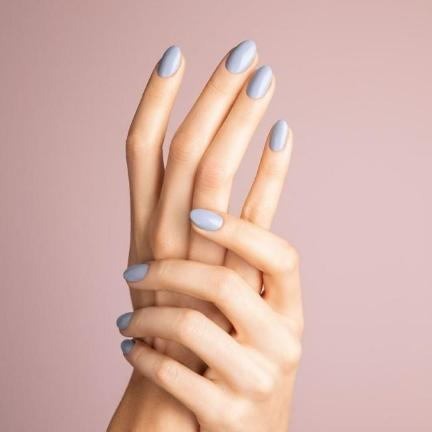Nail: (225, 39, 257, 73), (246, 65, 273, 98), (157, 45, 182, 77), (190, 209, 224, 231), (269, 119, 288, 152), (123, 263, 149, 281), (116, 312, 134, 330), (121, 339, 135, 355)
